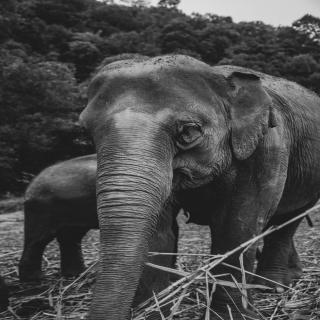Elephant: (79, 48, 320, 320)
